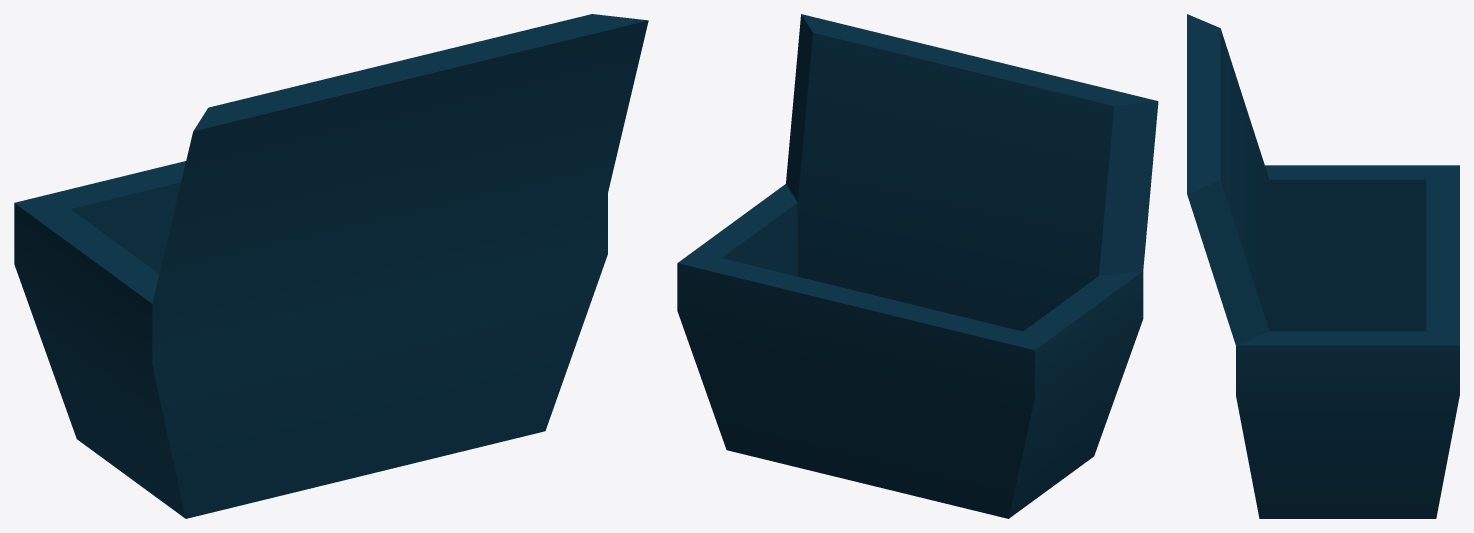
The model's file is House_Orginizer_Trashh.fbx.
The picture shows the model from 3 angles, left to right: view 1: azimuth 30°, elevation 25°; view 2: azimuth 150°, elevation 25°; view 3: azimuth 270°, elevation 25°; orthographic projection. The views are drawn at different scales.
Visible parts, largest first — view 1: trash.001; view 2: trash.001; view 3: trash.001.
Boxes of the visible parts, <box> form: trash.001: <box>14,14,648,518</box>; trash.001: <box>677,14,1158,518</box>; trash.001: <box>1187,14,1459,518</box>.
Size of the model in its own units: 984 by 865 by 615.
